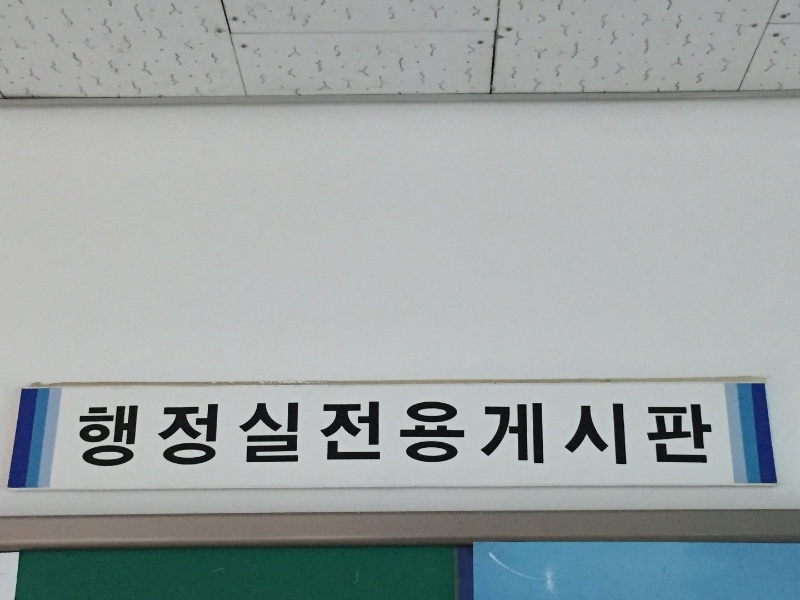text: (81, 395, 96, 473), (97, 395, 112, 473), (113, 395, 128, 473), (129, 395, 144, 473), (145, 395, 160, 473), (161, 395, 176, 473), (177, 395, 192, 473), (193, 395, 208, 473), (209, 395, 224, 473), (225, 395, 240, 473), (241, 395, 256, 473), (257, 395, 272, 473), (273, 395, 288, 473), (289, 395, 304, 473), (305, 395, 320, 473), (321, 395, 336, 473), (337, 395, 352, 473), (353, 395, 368, 473), (369, 395, 384, 473), (385, 395, 400, 473), (401, 395, 416, 473), (417, 395, 432, 473), (433, 395, 448, 473), (449, 395, 464, 473), (465, 395, 480, 473), (481, 395, 496, 473), (497, 395, 512, 473), (513, 395, 528, 473), (529, 395, 544, 473), (545, 395, 560, 473), (561, 395, 576, 473), (577, 395, 592, 473), (593, 395, 608, 473), (609, 395, 624, 473), (625, 395, 640, 473), (641, 395, 656, 473), (657, 395, 672, 473), (673, 395, 688, 473), (689, 395, 704, 473), (705, 395, 720, 473), (78, 395, 80, 473), (721, 395, 723, 473)
